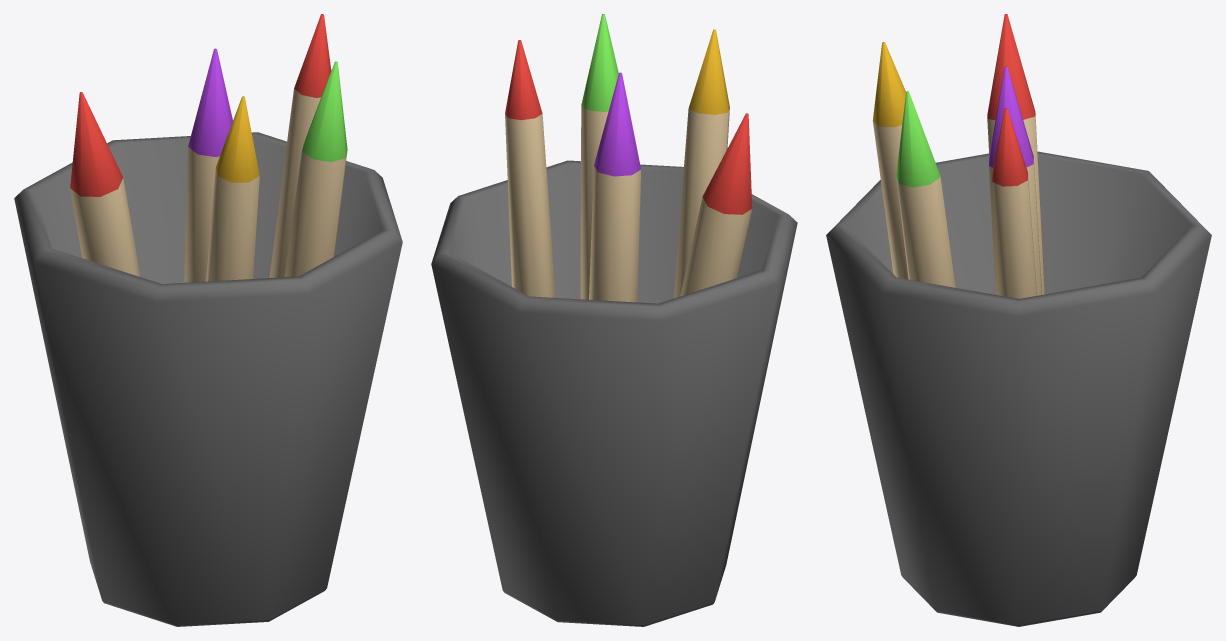
The model's file is pencilCase.fbx.
3 renders of one model, left to right at view 1: azimuth 30°, elevation 25°; view 2: azimuth 150°, elevation 25°; view 3: azimuth 270°, elevation 25°, orthographic. The views are drawn at different scales.
Visible parts, largest first — view 1: pencilCase; view 2: pencilCase; view 3: pencilCase.
Part boxes in pixels (bbox=[...]): pencilCase: bbox=[14, 14, 402, 626]; pencilCase: bbox=[431, 14, 797, 626]; pencilCase: bbox=[826, 14, 1211, 626].
Bounding box in the file's own units: 11.97 × 17.83 × 11.97.
